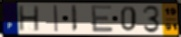0: (120, 5, 137, 33)
3: (142, 5, 161, 34)
E: (90, 4, 115, 34)
H: (18, 5, 41, 33)
I: (70, 4, 78, 33), (53, 5, 60, 33)
